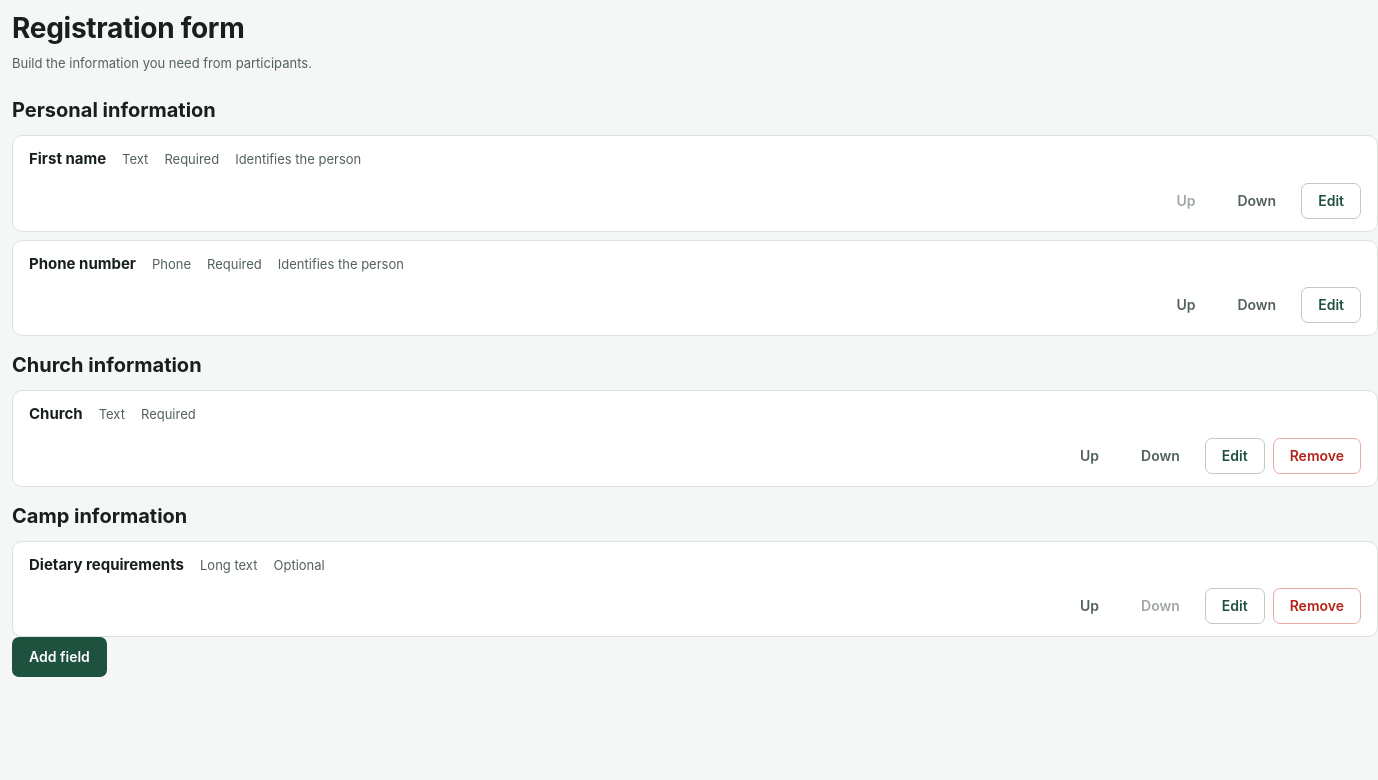
Test: registration form builder › moves a question down, and sends the whole new order
Click the button with aria-label "Move First name down" at (1257, 201), box x1=1220 y1=183 x2=1293 y2=219
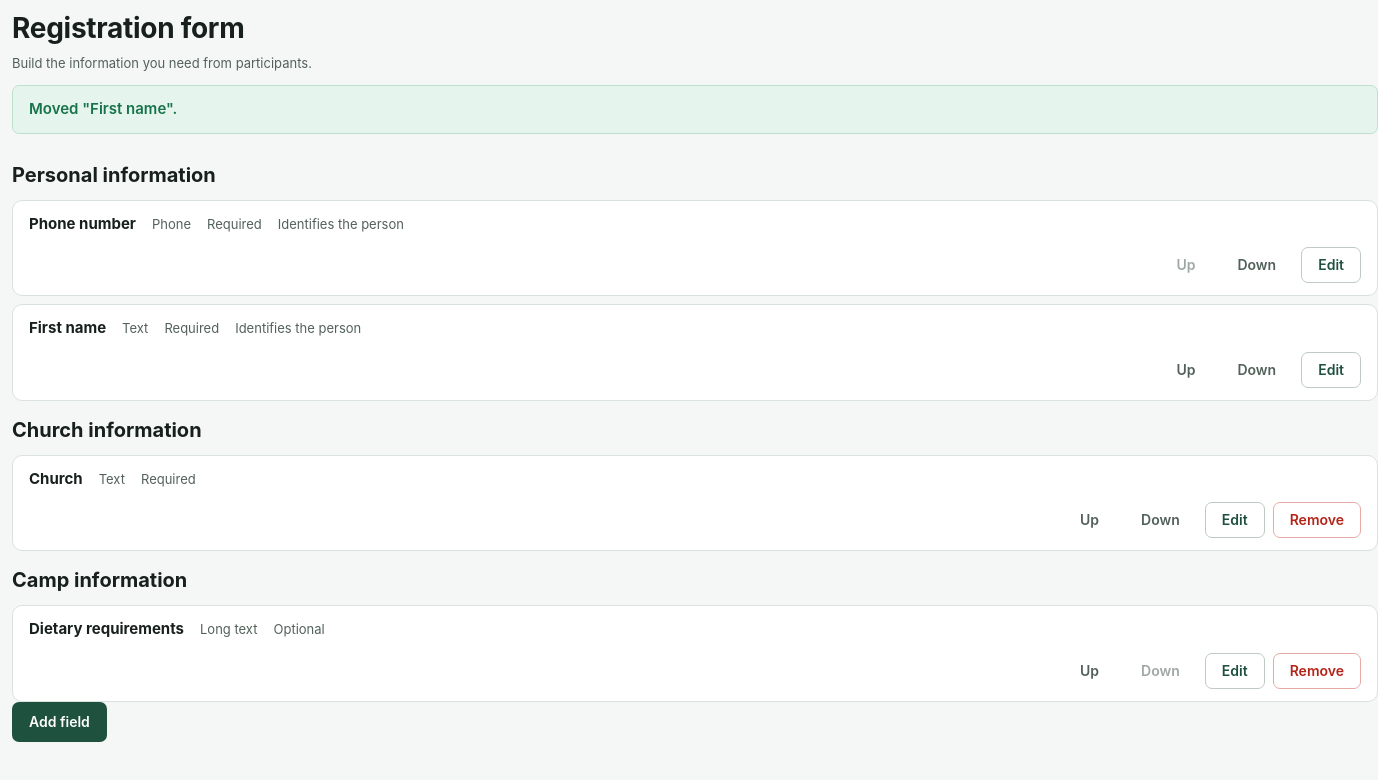
Expected: the text "Moved \"First name\"." is shown, x1=12 y1=85 x2=1377 y2=134
